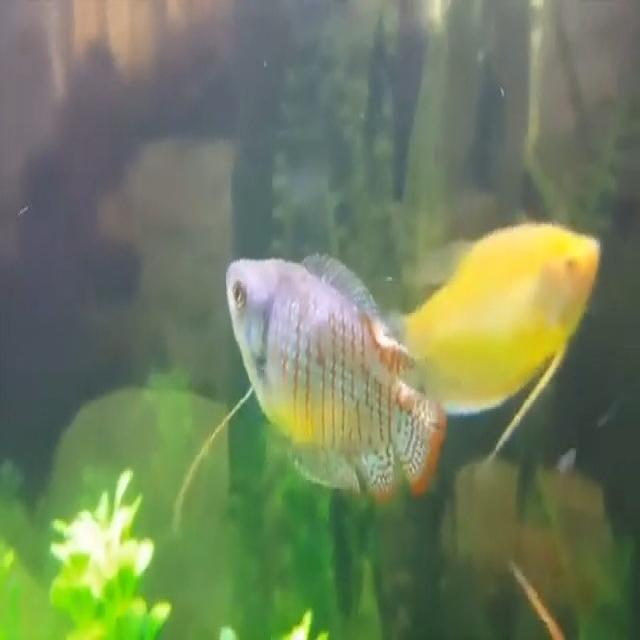fish: (224, 239, 448, 499), (395, 220, 618, 416)
